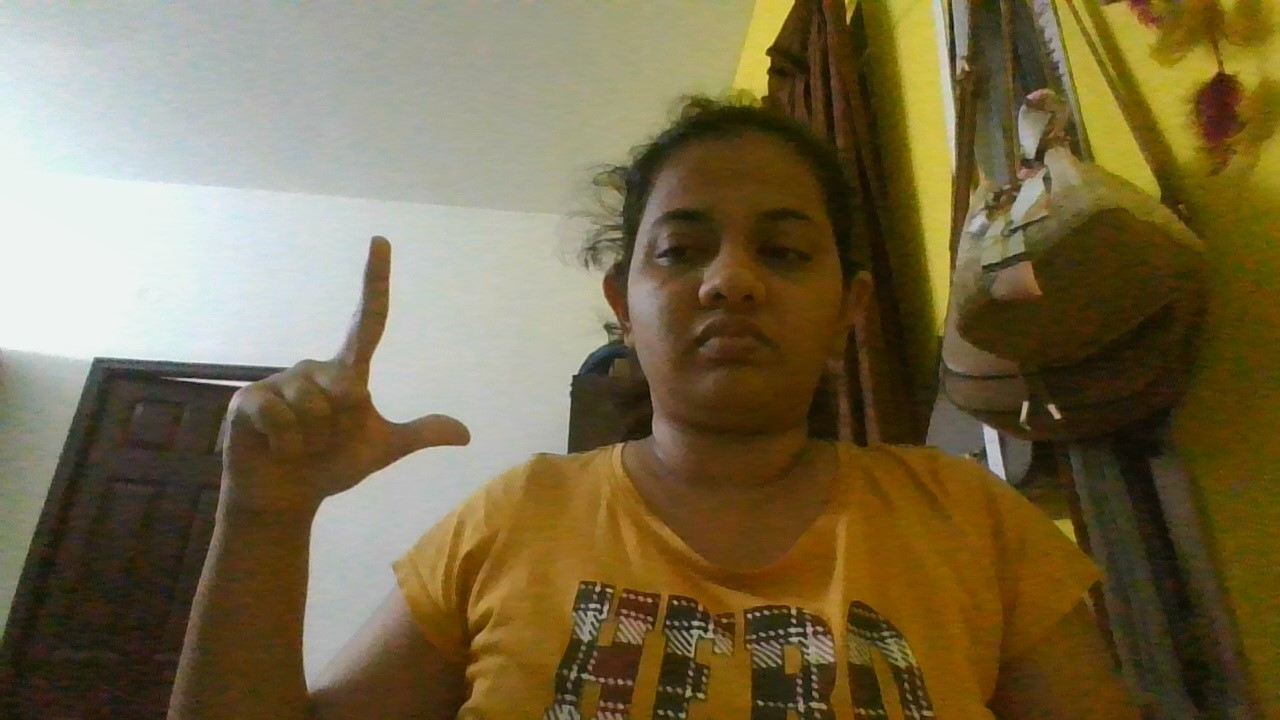l: (192, 225, 478, 534)
